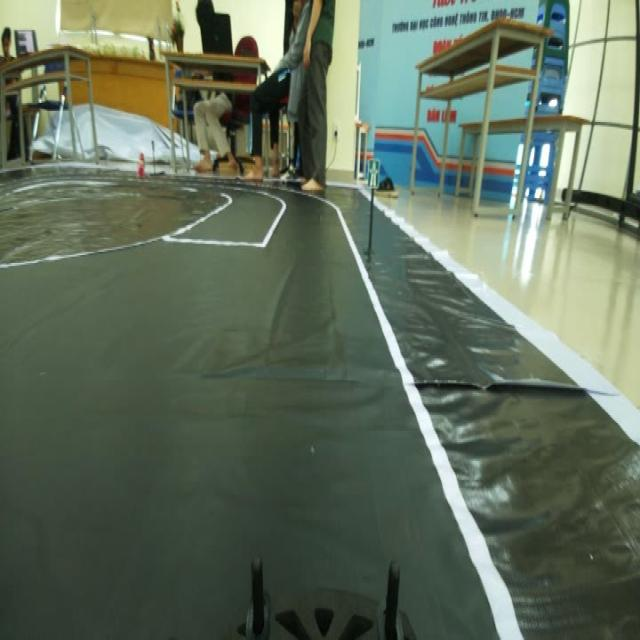highway_entry: (362, 151, 384, 201)
